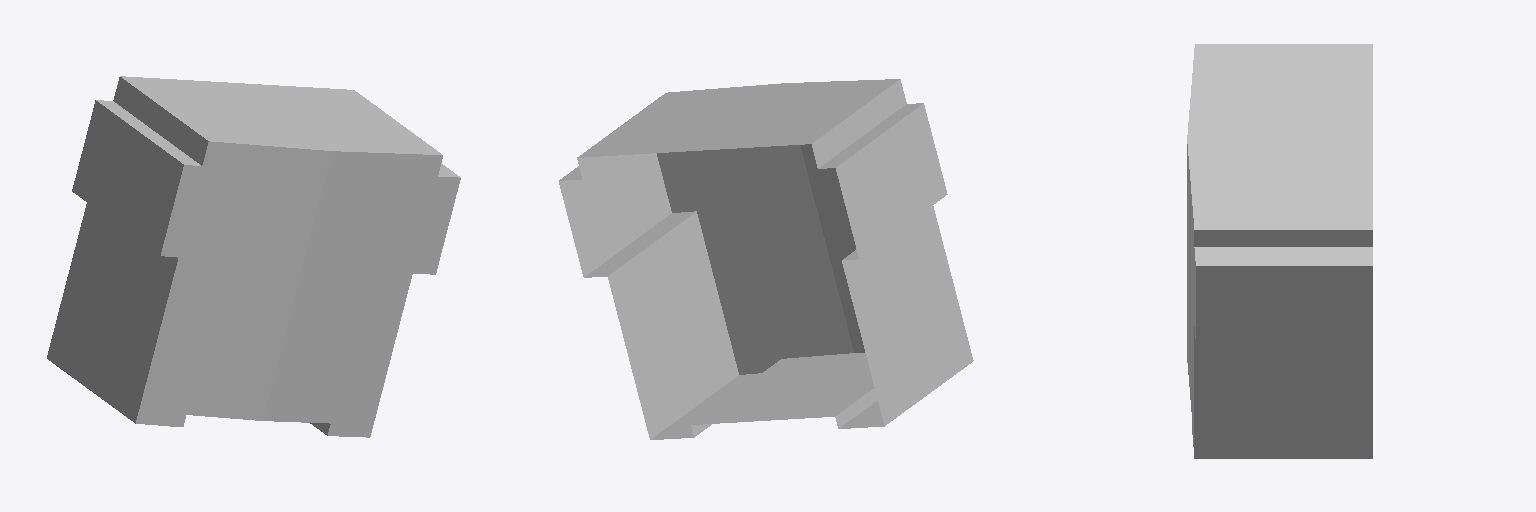
The model's file is talo_Build0000084.obj.
The picture shows the model from 3 angles: view 1: azimuth 30°, elevation 25°; view 2: azimuth 150°, elevation 25°; view 3: azimuth 270°, elevation 25°; orthographic projection.
Size of the model in its own units: 26.72 by 26.27 by 13.18.